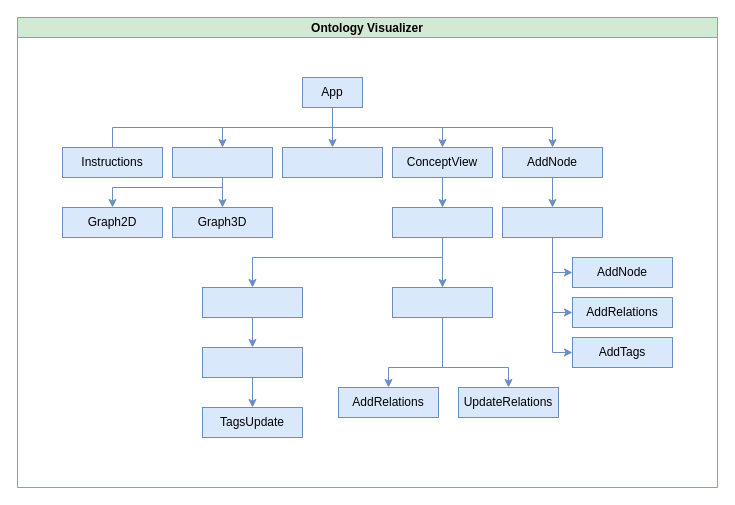
Image size: 735x505. Some labels were removed from this diagram. The shapes that lost their labels are listed below. From the top down, each one's centre as x and y in pixels, then its label:
(222,162): Graph
(332,162): LinkView
(442,222): ConceptEditor
(552,222): AddNodeForm
(252,302): NodeEditor
(442,302): RelationsEditor
(252,362): TagsEditor
